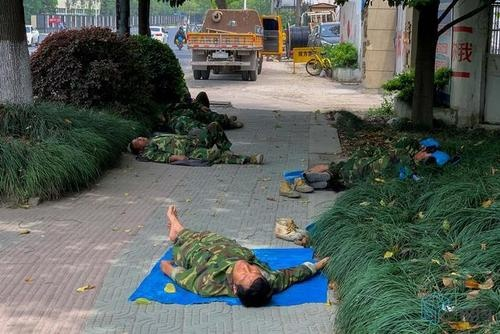falling: (288, 136, 467, 195)
